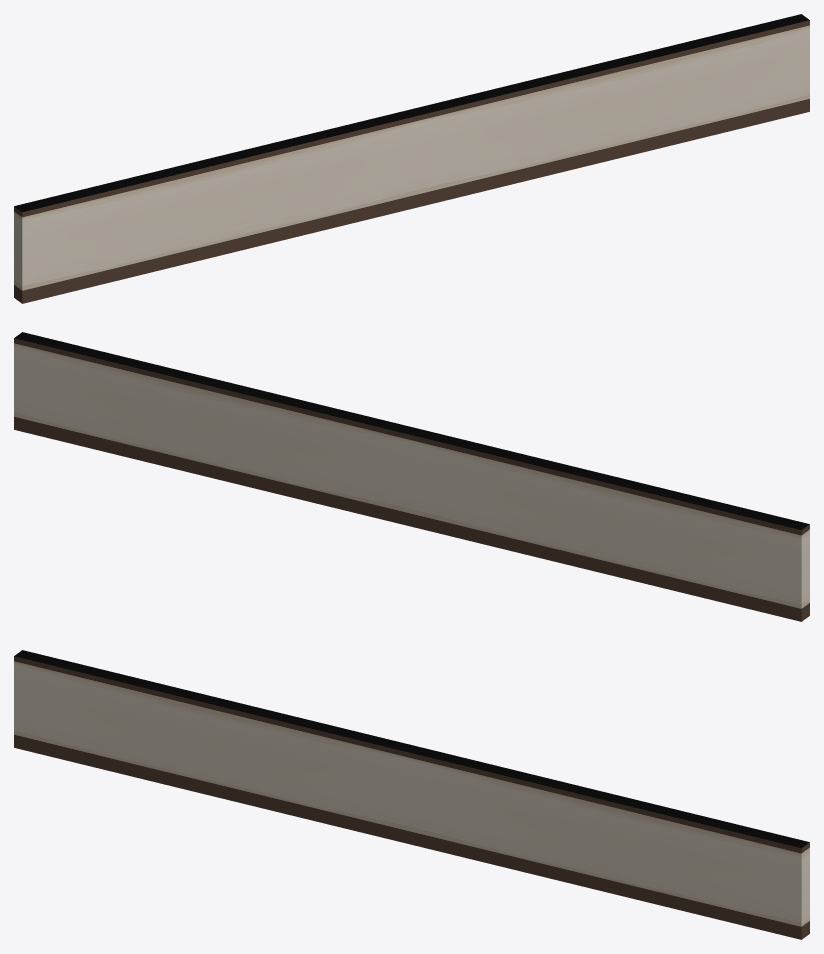
File: lvl 1 long wall.fbx
3 views of the same model, one above another, from view 1: azimuth 30°, elevation 25°; view 2: azimuth 150°, elevation 25°; view 3: azimuth 330°, elevation 25° (orthographic).
Parts seen in each view (by area): view 1: lvl 1 long wall; view 2: lvl 1 long wall; view 3: lvl 1 long wall.
Part boxes in pixels (box(x1,y1,x2,y2)): lvl 1 long wall: box(14, 14, 809, 303); lvl 1 long wall: box(14, 332, 809, 621); lvl 1 long wall: box(14, 650, 809, 939).
Size of the model in its own units: 54 by 6 by 1.
